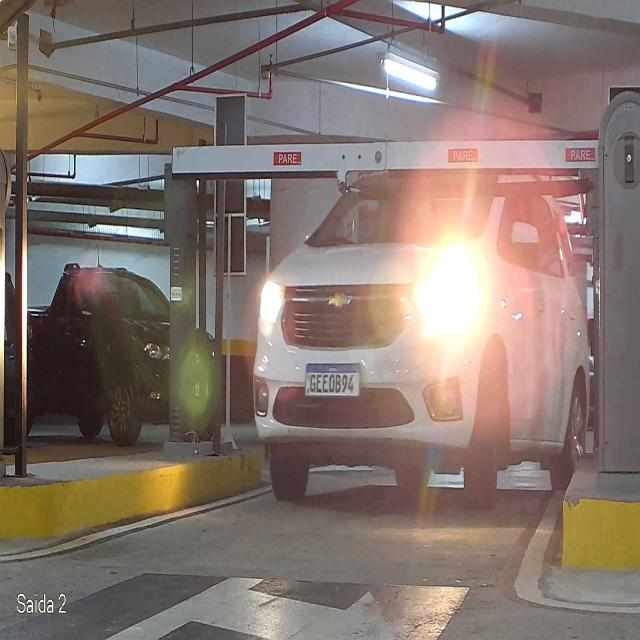mercosul_plate: (302, 361, 362, 401)
